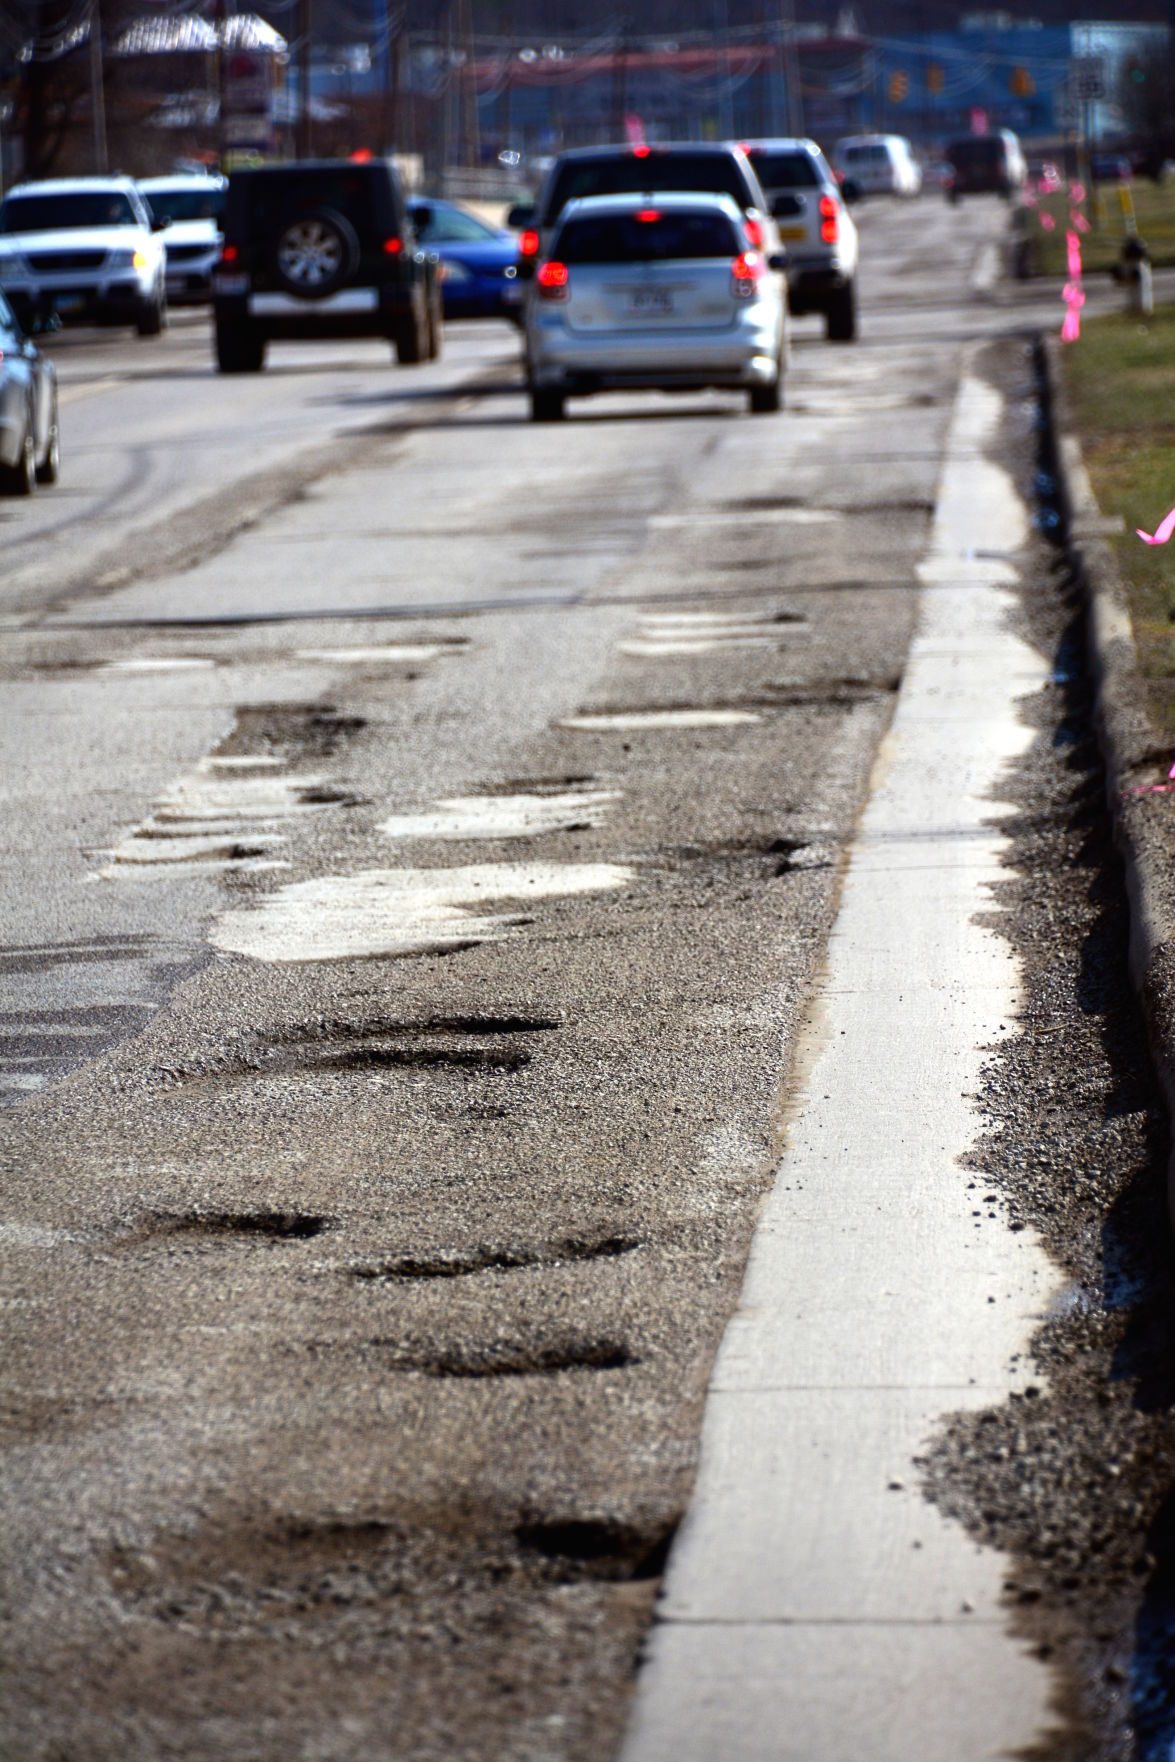pothole: (143, 1464, 682, 1641), (191, 958, 563, 1106), (376, 1298, 653, 1422), (548, 687, 782, 777), (376, 1207, 706, 1269), (201, 649, 367, 749), (29, 916, 157, 1012), (696, 454, 810, 555)
